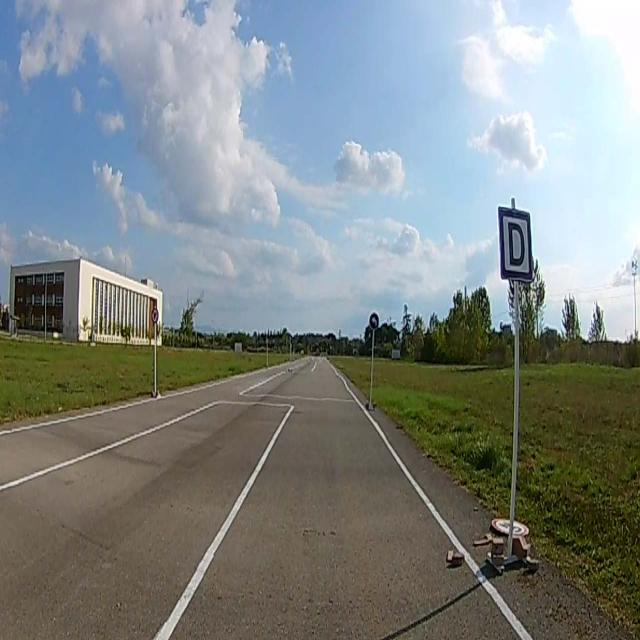durak: (497, 206, 532, 280)
